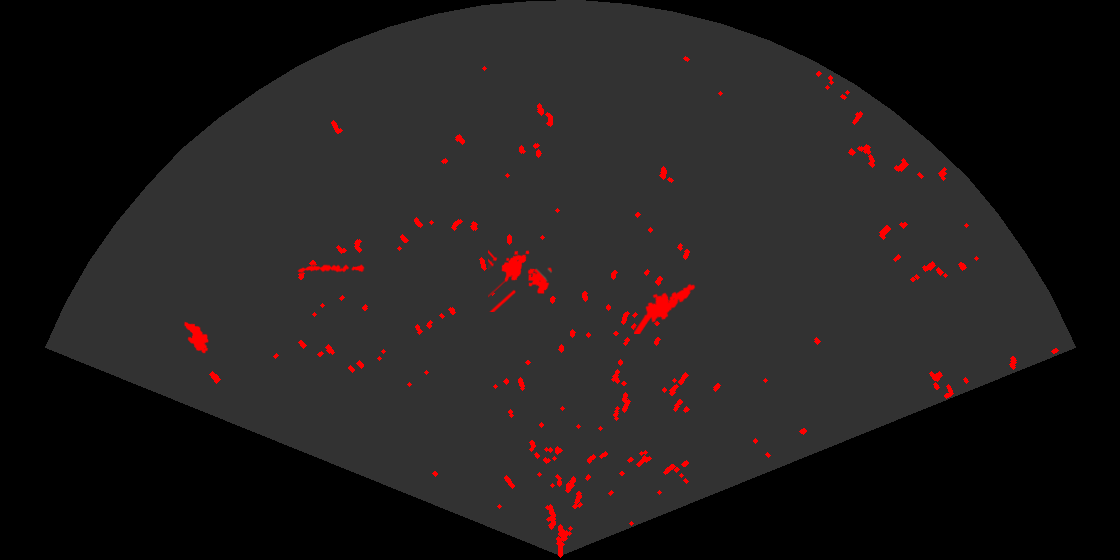AUV: (182, 320, 210, 355)
cage: (488, 248, 554, 312)
chain: (297, 263, 365, 274)
frogman: (634, 282, 697, 334)
